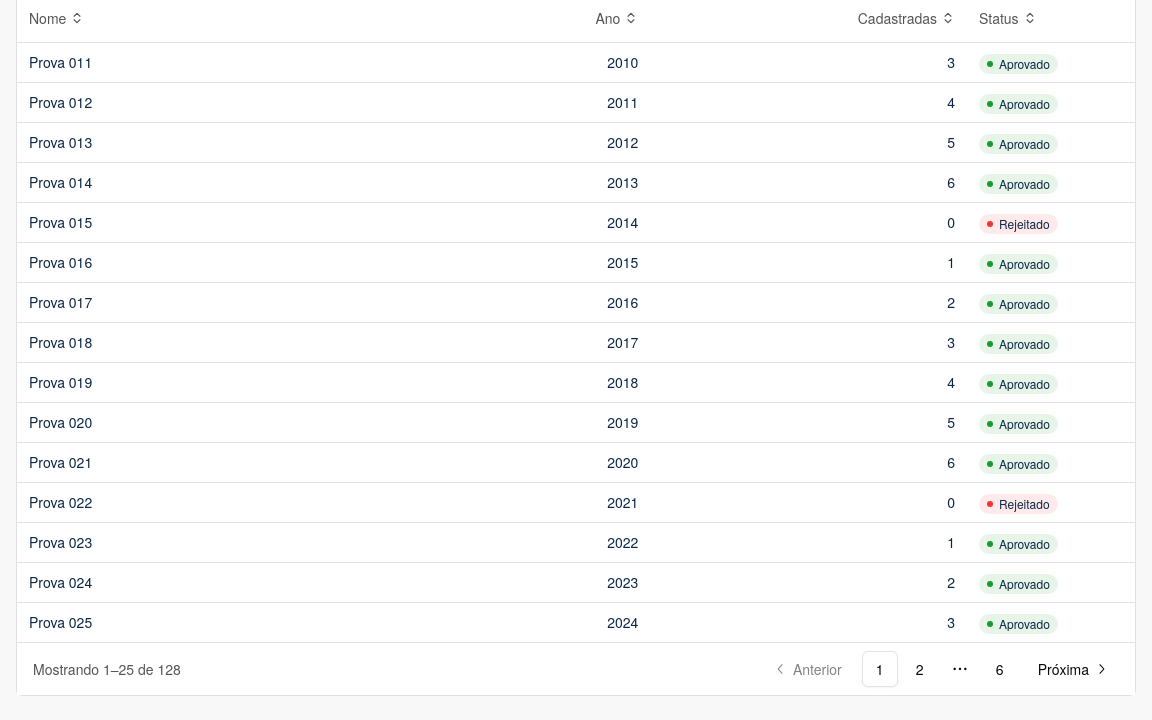
Scenario: DashListTemplate — paginação › ⚠️ na última página o rodapé para no total: 126–128, não 126–150
This screenshot has width=1152, height=720.
(page scrolled)
Click the link "6": [1000, 669] box [996,659,1004,679]
(page scrolled)
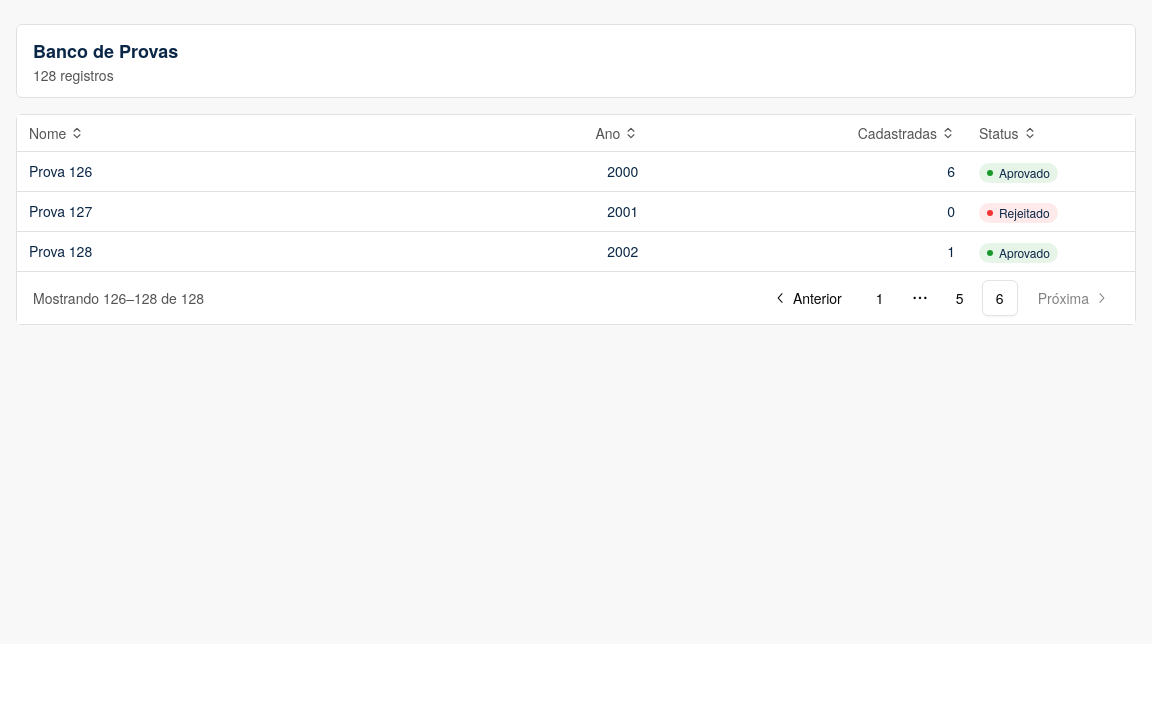
Result: the text "Mostrando 126–128 de 128" is shown at [33,288,204,308]
